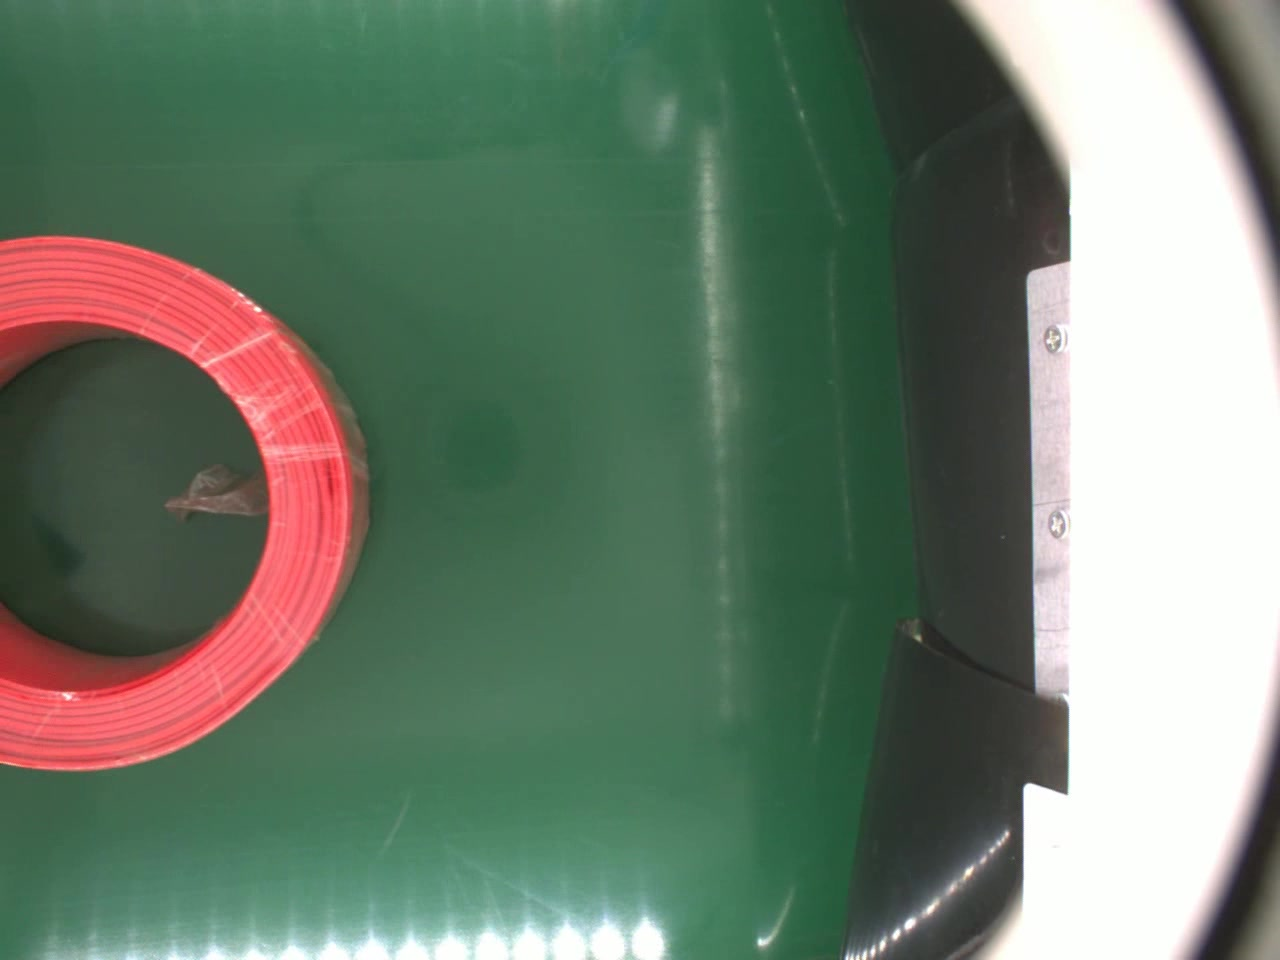red: (0, 229, 374, 769)
